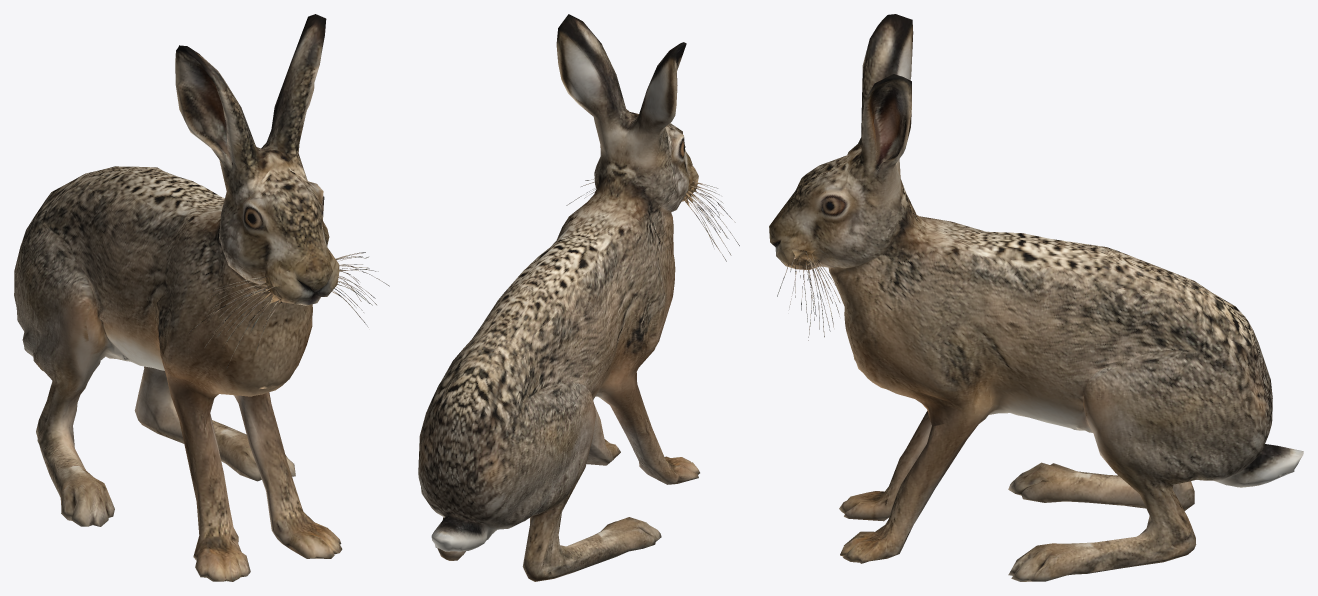
File: Rabbit_clean.glb
3 renders of one model, left to right at view 1: azimuth 30°, elevation 25°; view 2: azimuth 150°, elevation 25°; view 3: azimuth 270°, elevation 25°, orthographic. The views are drawn at different scales.
Parts seen in each view (by area): view 1: Rabbit; view 2: Rabbit; view 3: Rabbit.
Boxes of the visible parts, bbox=[...] form: Rabbit: bbox=[14, 14, 389, 581]; Rabbit: bbox=[418, 14, 739, 581]; Rabbit: bbox=[769, 14, 1303, 581].
Size of the model in its own units: 0.8517 by 1.9 by 1.87.
Materials: 1 (1 with a texture image).
